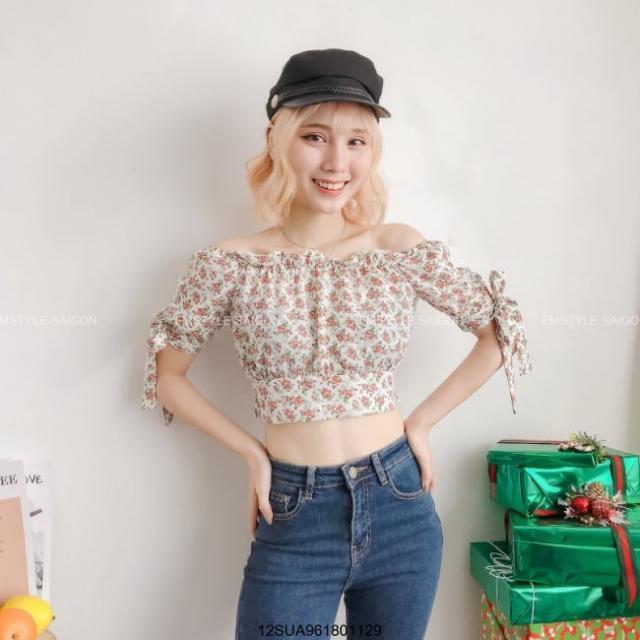clothes: (143, 239, 537, 640)
